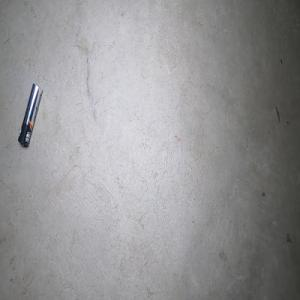Battery: (17, 82, 42, 147)
